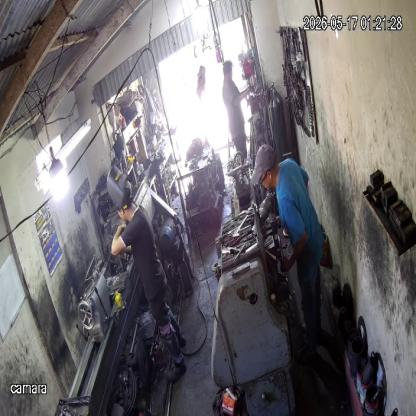lentes: (258, 168, 270, 186)
